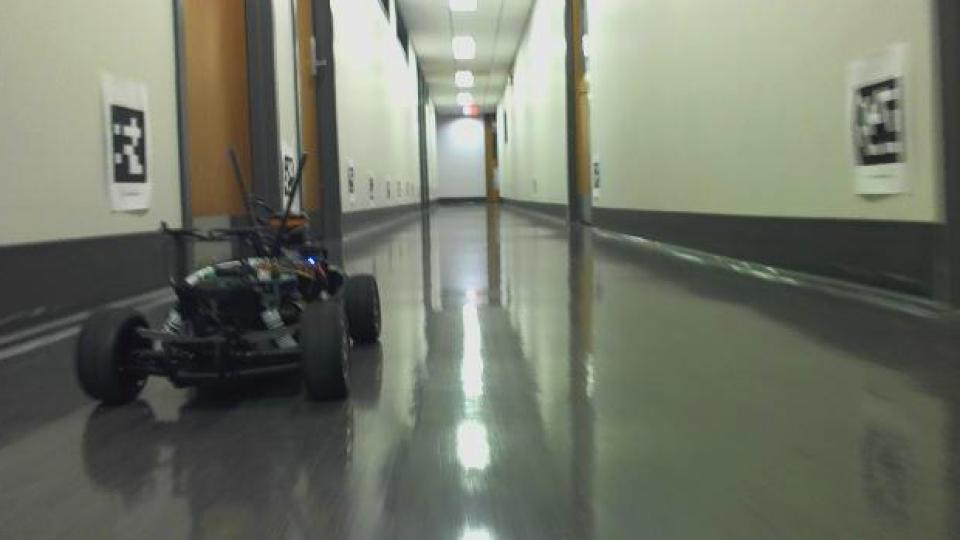car: (73, 148, 386, 410)
